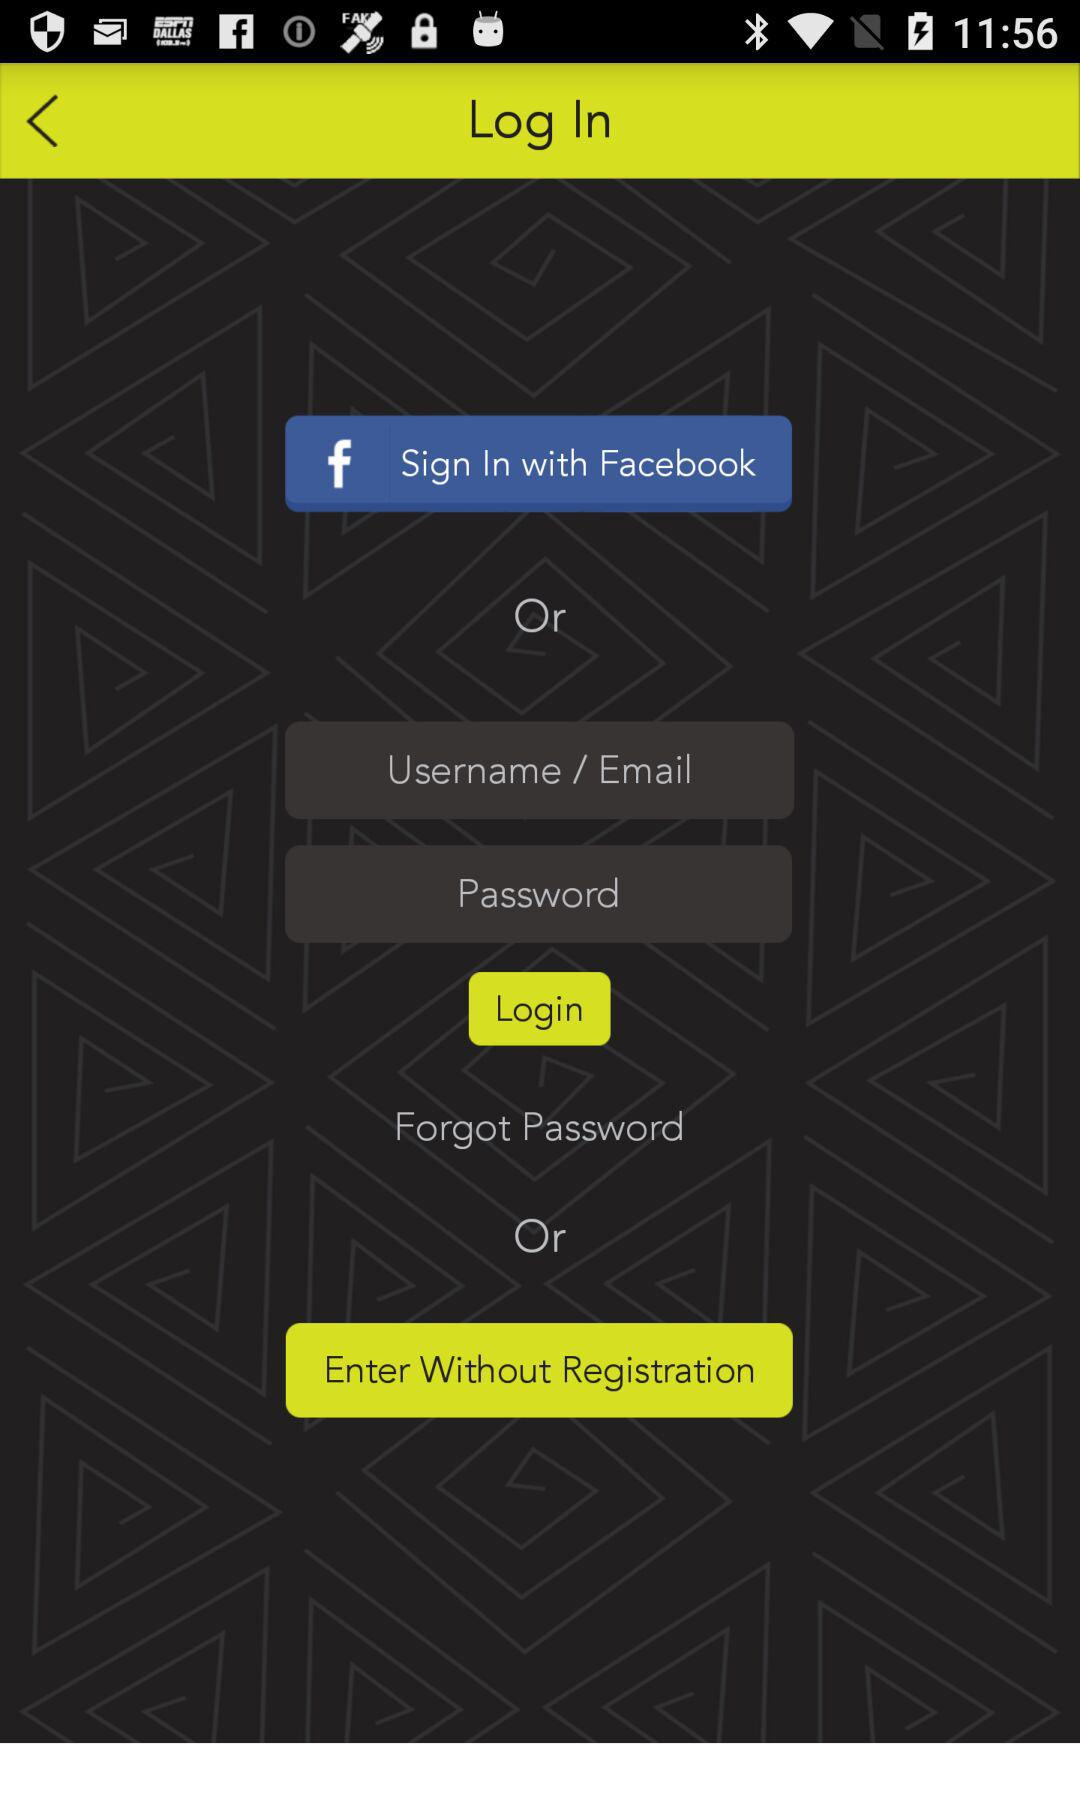BackgroundImage: (1, 179, 1080, 1743)
EditText: (284, 721, 796, 821), (284, 844, 796, 944)
Icon: (26, 94, 60, 150)
Text: (396, 1111, 683, 1151), (389, 753, 691, 786), (471, 99, 611, 152), (460, 876, 619, 910), (514, 597, 569, 636), (514, 1217, 568, 1255)
TextButton: (284, 416, 793, 514), (286, 1322, 794, 1419), (468, 973, 612, 1047)
Toolbar: (1, 64, 1080, 179)
UpperTaskBar: (1, 1, 1080, 64)
